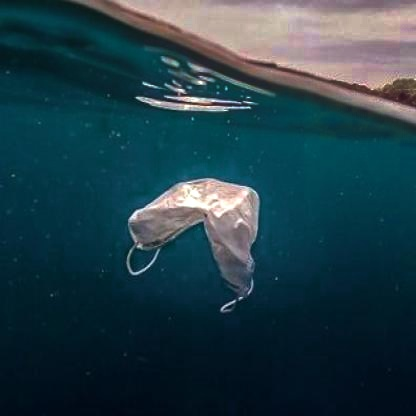Mask: (115, 175, 260, 315)
